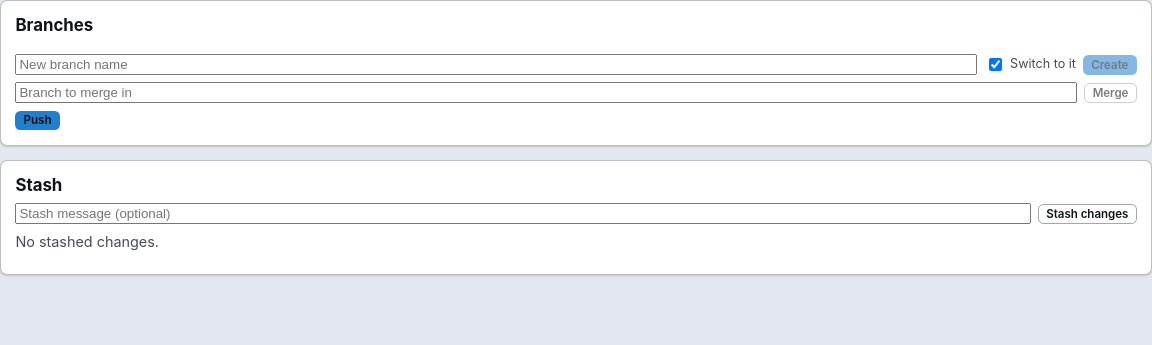
Test: GitBranchPanel: branches (SPEC §7.6; issue #234) › shows the real message for an already_exists outcome
Type "dupe" into the field with test id "git-branch-create-name" at coordinates (496, 65), box x1=15 y1=54 x2=978 y2=75
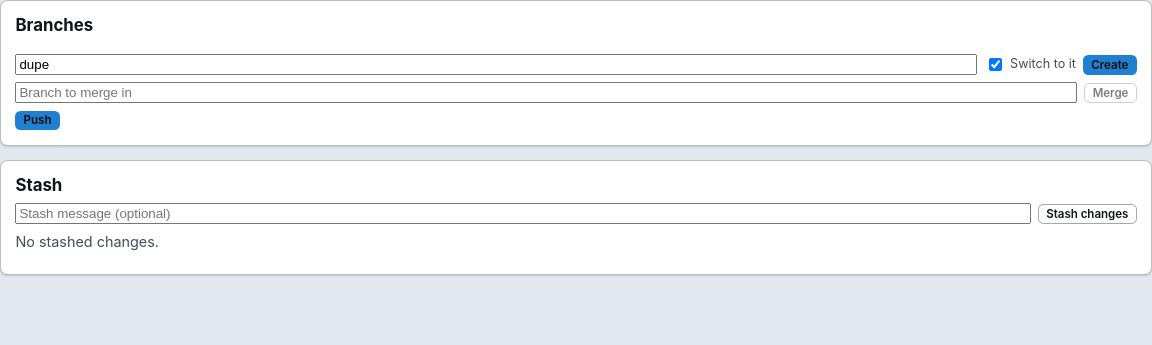
Click the button with test id "git-branch-create-submit" at coordinates (1110, 65), box x1=1083 y1=55 x2=1137 y2=75
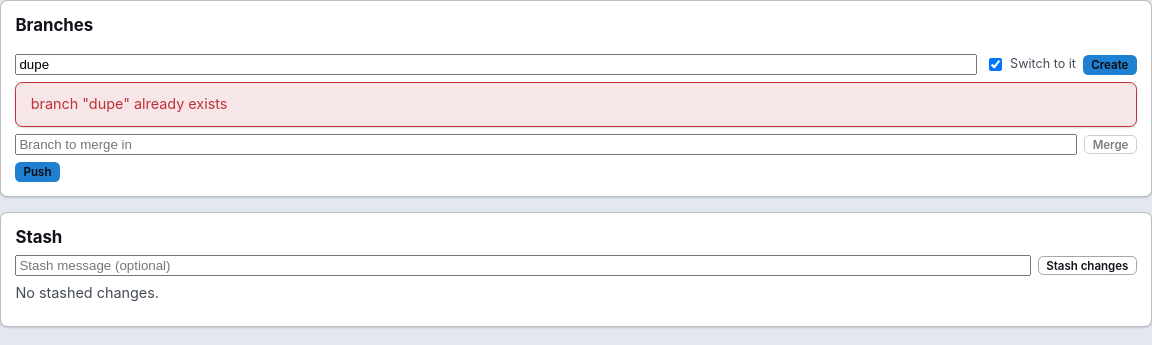
Expected: the text "branch \"dupe\" already exists" is shown, x1=31 y1=94 x2=228 y2=115
